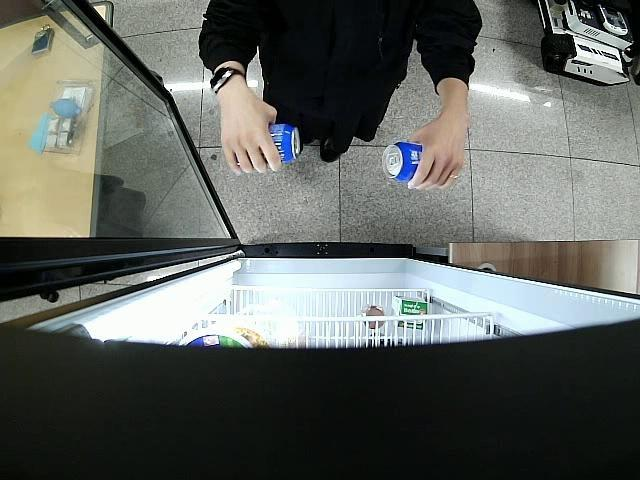13_pocariSweat: (381, 140, 423, 182), (266, 123, 300, 164)
